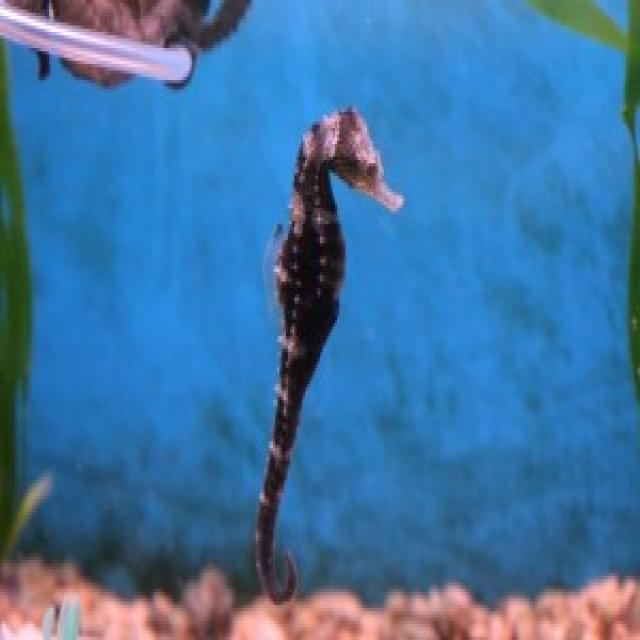Seahorse: (227, 99, 402, 605)
